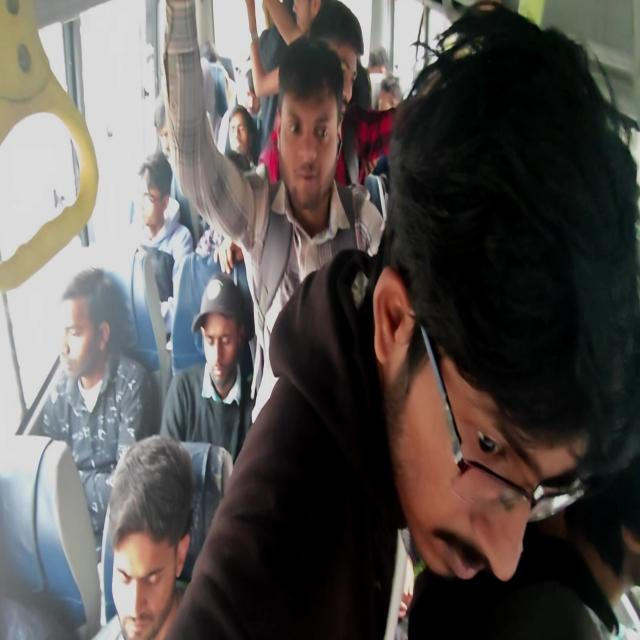person: (370, 138, 640, 534), (275, 86, 363, 304), (54, 283, 180, 416), (95, 479, 169, 596), (317, 3, 372, 130), (203, 301, 253, 385), (144, 152, 178, 230), (210, 191, 247, 252), (152, 90, 190, 146), (220, 112, 250, 172), (195, 41, 228, 81), (372, 50, 406, 84), (381, 81, 405, 115)
